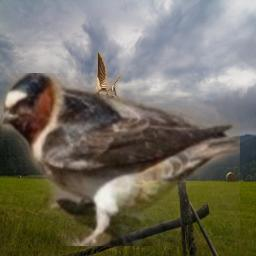Swallow: (0, 73, 240, 246), (92, 52, 128, 112)
